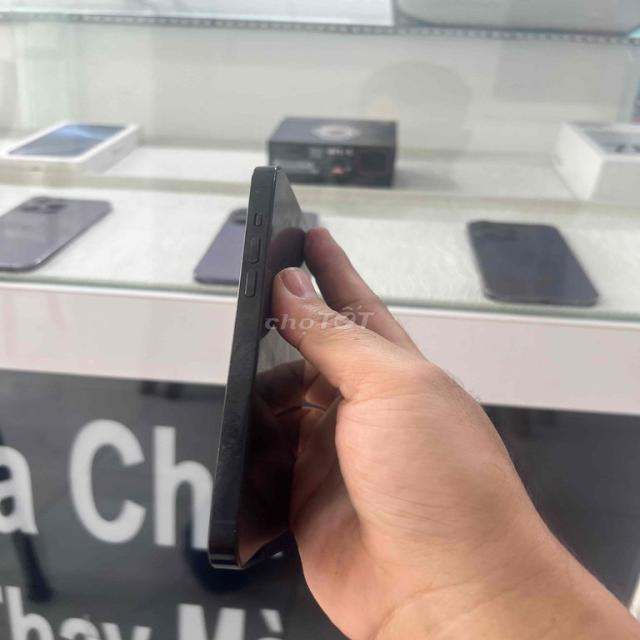gen_14: (199, 154, 334, 576)
